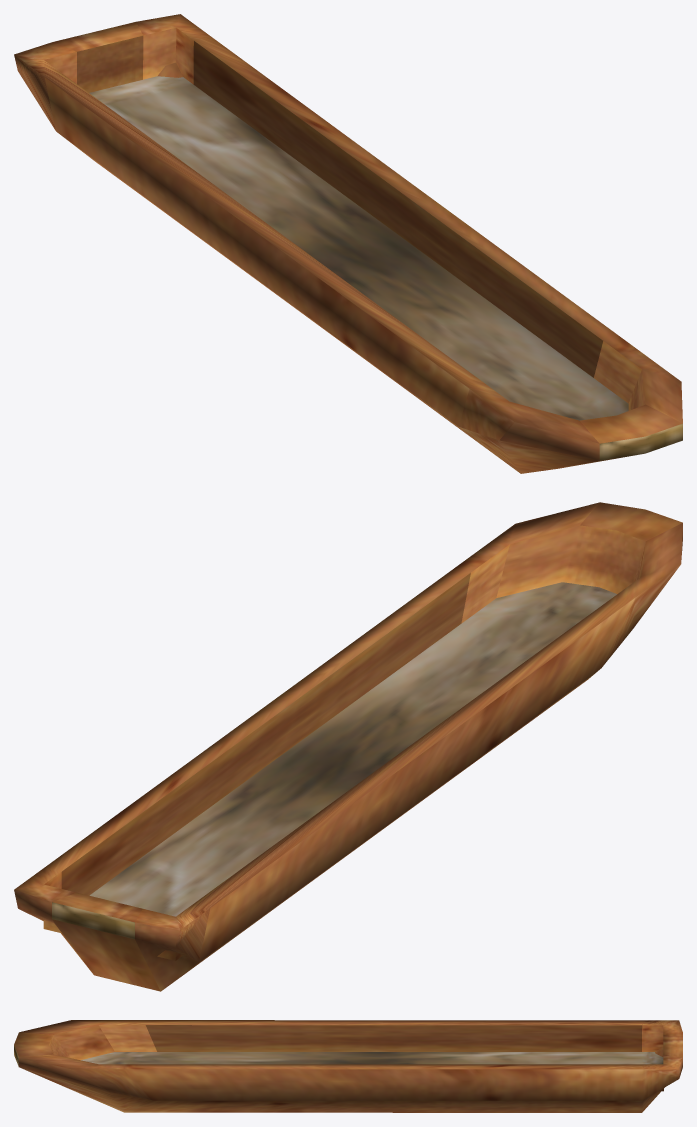
Rendered from canoe_03_03.dae.
3 views of the same model, one above another, from view 1: azimuth 30°, elevation 25°; view 2: azimuth 150°, elevation 25°; view 3: azimuth 270°, elevation 25° (orthographic). The views are drawn at different scales.
Parts seen in each view (by area): view 1: canoe_03_03; view 2: canoe_03_03; view 3: canoe_03_03.
Boxes of the visible parts, box(x1,y1,x2,y2) form: canoe_03_03: box(14, 14, 682, 473); canoe_03_03: box(14, 502, 682, 991); canoe_03_03: box(14, 1020, 682, 1112).
Size of the model in its own units: 2.35 by 13.46 by 1.29.
